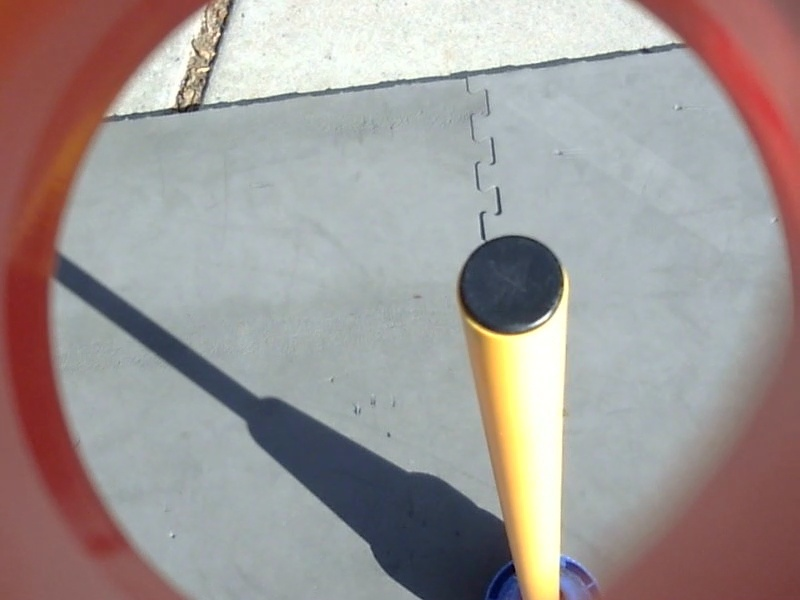tip: (448, 230, 577, 345)
